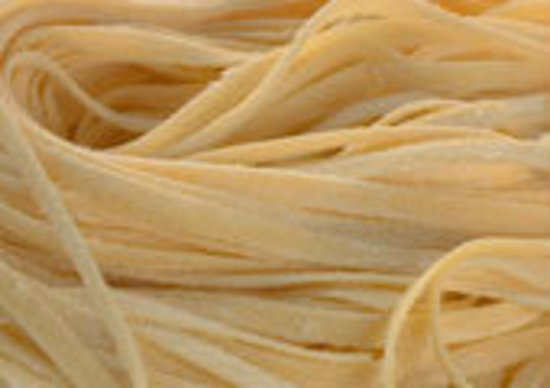plain spaghetti: (56, 49, 505, 371)
